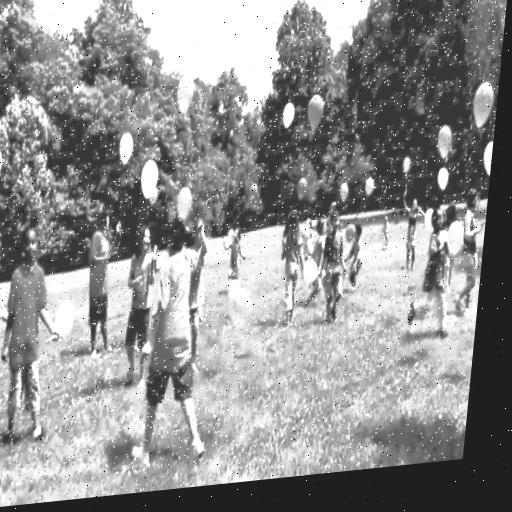balloon: (469, 80, 495, 127), (443, 220, 467, 257), (228, 289, 250, 328), (171, 183, 193, 221), (51, 301, 73, 337), (138, 158, 158, 197), (175, 75, 195, 112), (304, 94, 324, 131), (434, 123, 452, 157), (223, 280, 240, 314), (117, 134, 134, 163), (299, 258, 317, 284), (479, 141, 493, 174), (279, 102, 295, 129), (434, 165, 450, 190), (244, 183, 258, 203), (297, 225, 307, 252), (343, 221, 355, 243), (337, 182, 350, 202), (147, 188, 158, 207), (481, 189, 489, 215), (296, 177, 305, 197), (363, 177, 372, 196), (223, 228, 233, 243), (400, 157, 410, 171), (0, 145, 3, 186)
